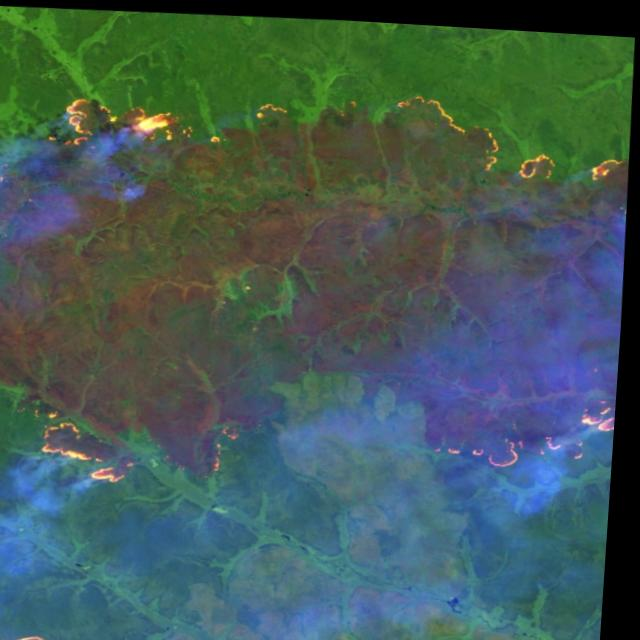fire: (385, 80, 634, 191), (426, 376, 621, 470), (33, 85, 200, 164), (28, 399, 156, 491), (0, 606, 79, 640)
